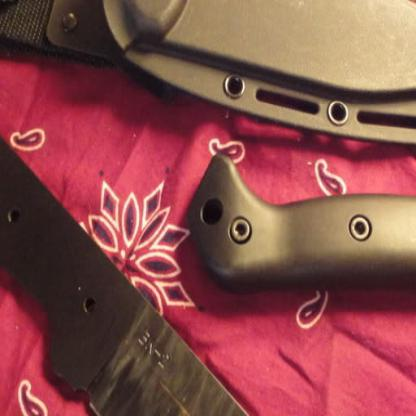knife: (0, 92, 373, 415)
